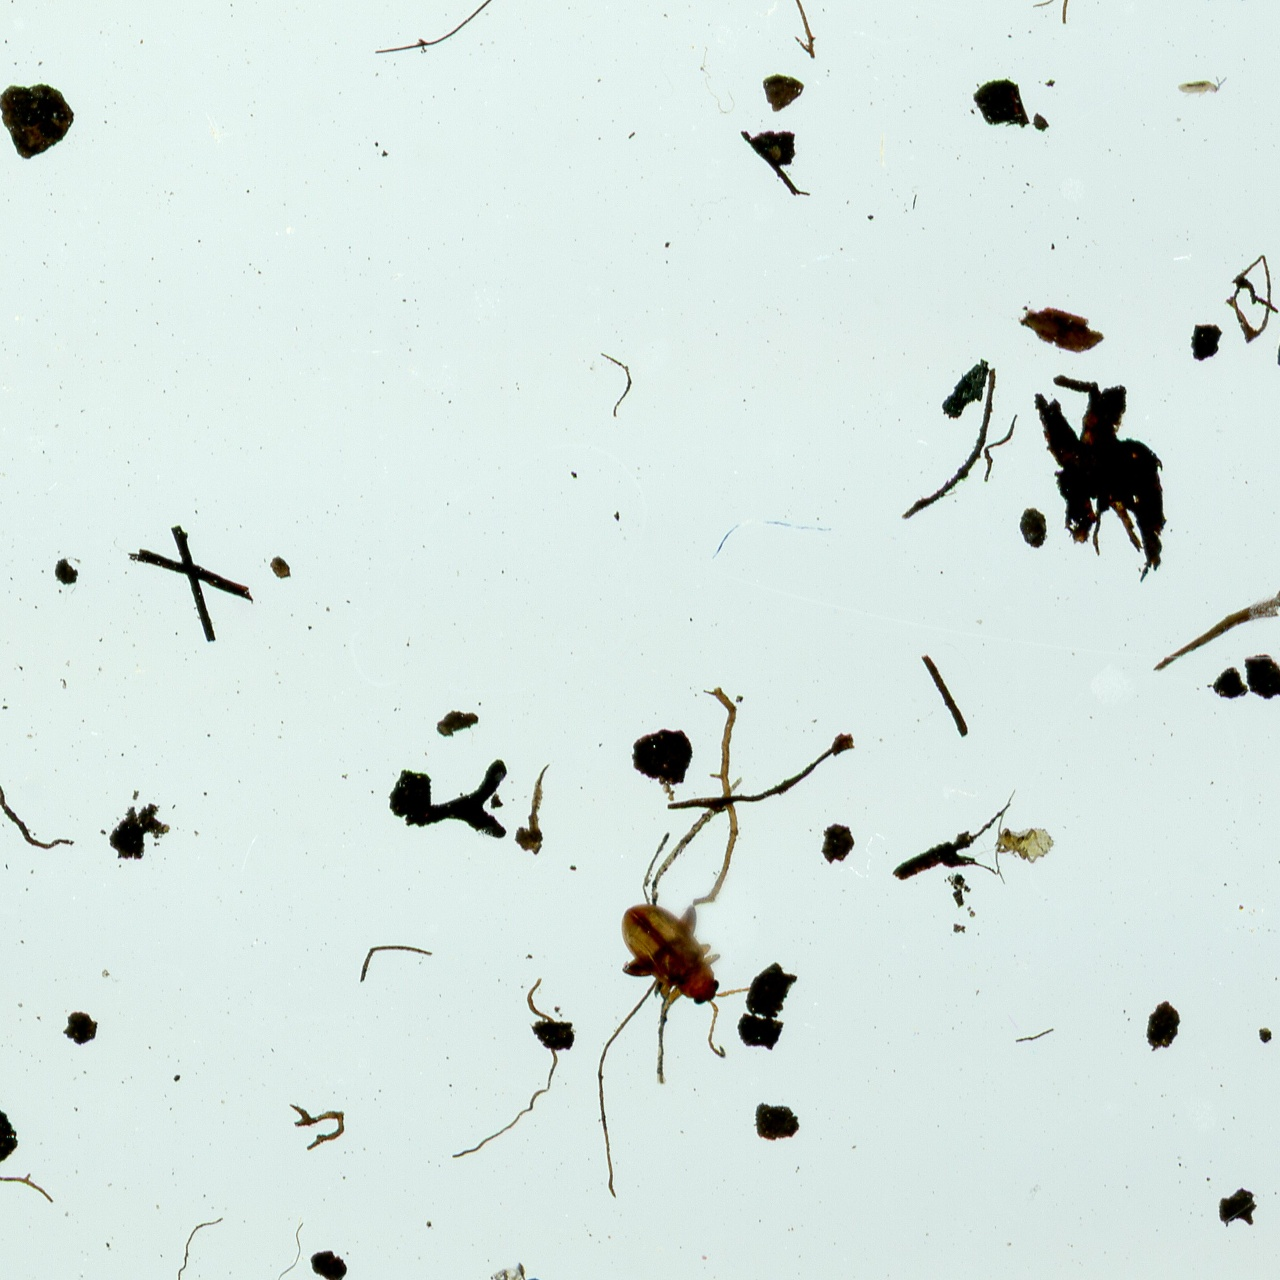arthropod: (617, 900, 753, 1061), (993, 787, 1057, 888), (1174, 72, 1230, 102)
